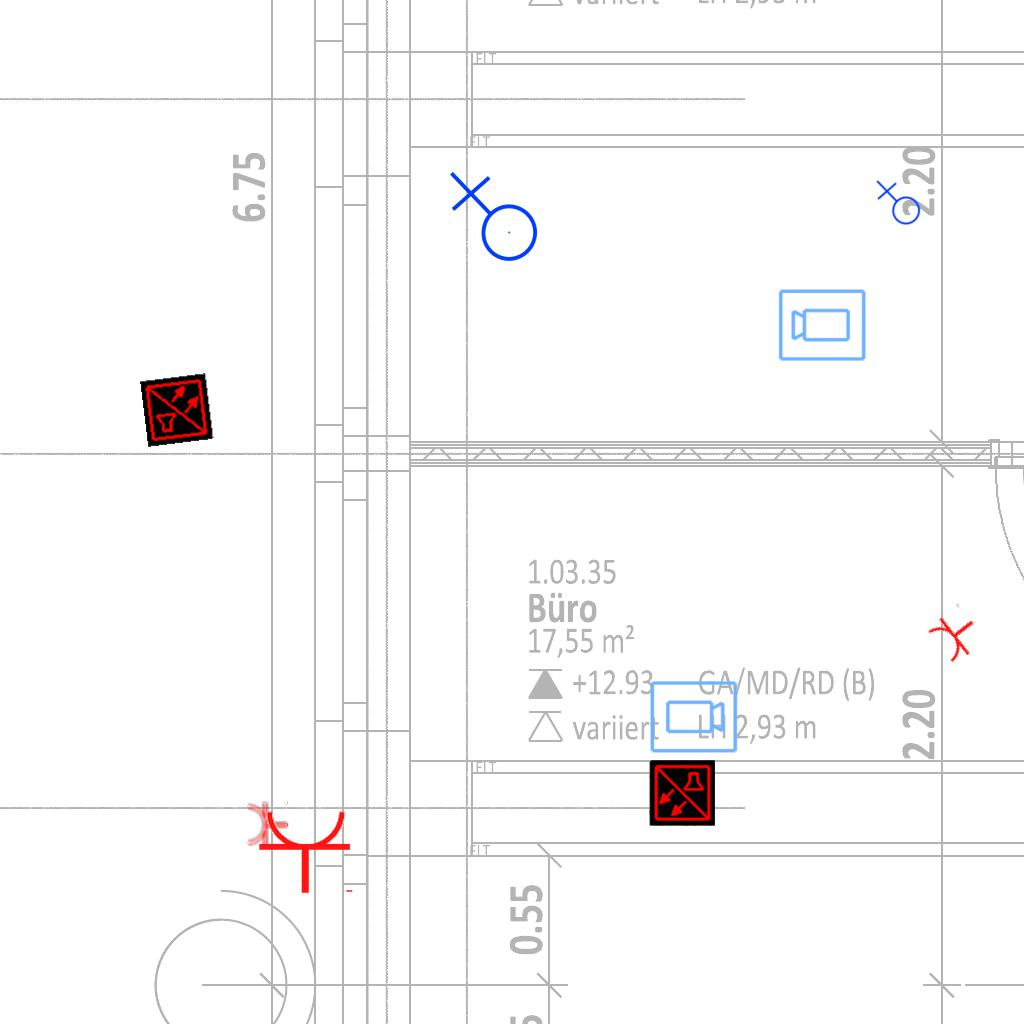Elektroanschluss_allgemein_230V_Geraeteanschlussdose_230V: (445, 171, 539, 270), (874, 180, 921, 229)
KFO_Kamera_mit_Festobjektiv: (648, 679, 739, 756), (777, 286, 868, 363)
OKW_Multisensormelder_(Kombination_optischer_Rauch-Kahlenmonoxid_Waerme-Melder): (140, 373, 214, 447), (649, 760, 715, 826)
Schukosteckdose_einfach: (257, 808, 357, 895), (923, 601, 988, 667), (246, 799, 289, 849)
